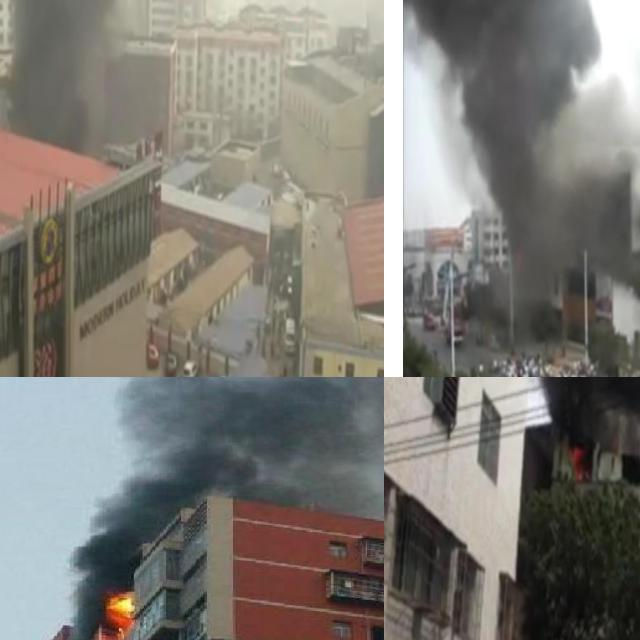fire: (99, 588, 139, 634), (570, 442, 588, 478)
smoke: (67, 377, 384, 608), (401, 0, 640, 294), (1, 0, 175, 144)
